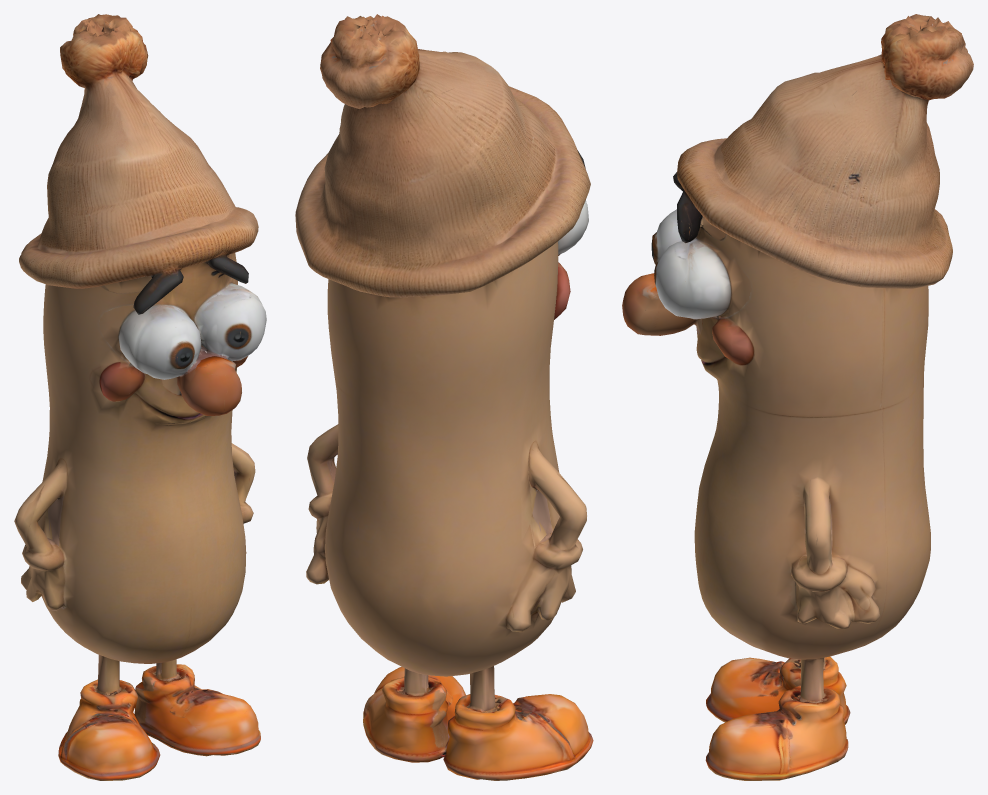
The model's file is Generate_me_a_simple__0810012621_texture.fbx.
3 renders of one model, left to right at view 1: azimuth 30°, elevation 25°; view 2: azimuth 150°, elevation 25°; view 3: azimuth 270°, elevation 25°, orthographic. The views are drawn at different scales.
Visible parts, largest first — view 1: Mesh1.0; view 2: Mesh1.0; view 3: Mesh1.0.
Boxes of the visible parts, left/top/right/bottom form: Mesh1.0: left=14, top=14, right=266, bottom=780; Mesh1.0: left=295, top=14, right=593, bottom=780; Mesh1.0: left=622, top=14, right=973, bottom=780.
Bounding box in the file's own units: 74.56 × 200 × 88.02.
1 material, 1 textured.
